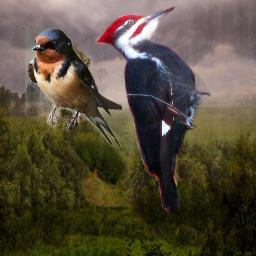Swallow: (25, 27, 122, 150)
Woodpecker: (95, 6, 211, 215)
